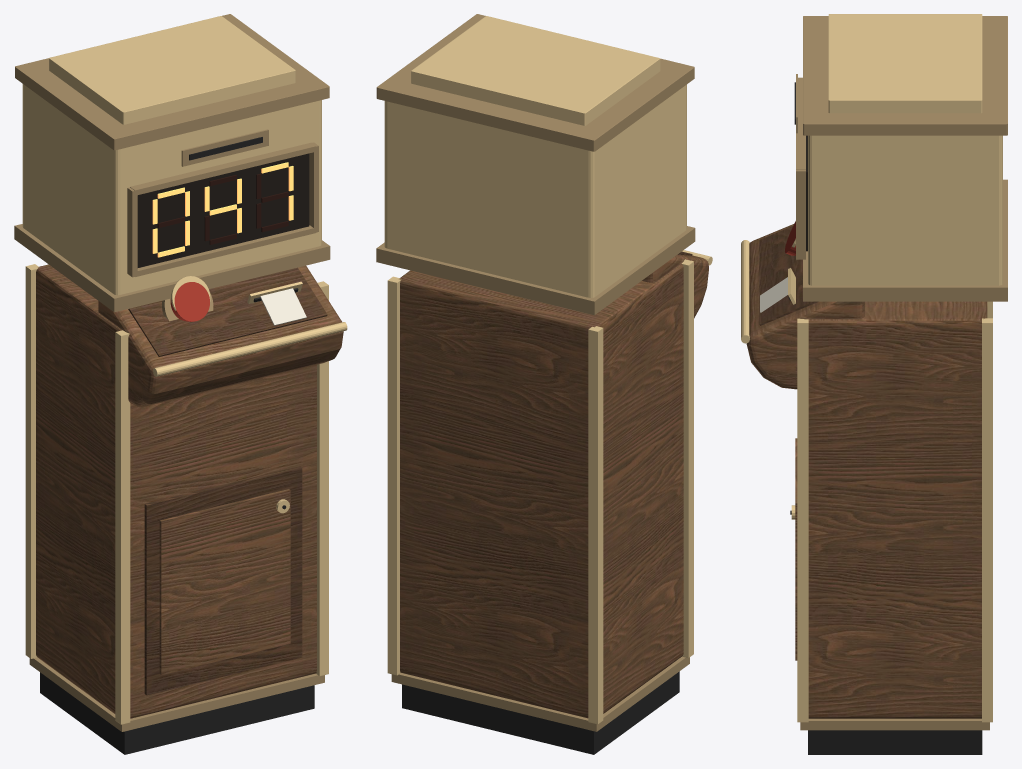
The model's file is cs_queue_machine.glb.
The picture shows the model from 3 angles, left to right: view 1: azimuth 30°, elevation 25°; view 2: azimuth 150°, elevation 25°; view 3: azimuth 270°, elevation 25°; orthographic projection. The views are drawn at different scales.
Visible parts, largest first — view 1: cs_queue_machine; view 2: cs_queue_machine; view 3: cs_queue_machine.
Part boxes in pixels (left/top/right/bottom): cs_queue_machine: left=14, top=14, right=347, bottom=754; cs_queue_machine: left=376, top=14, right=712, bottom=754; cs_queue_machine: left=741, top=14, right=1007, bottom=754.
Size of the model in its own units: 0.5 by 1.4 by 0.521.
10 materials, 2 textured.
